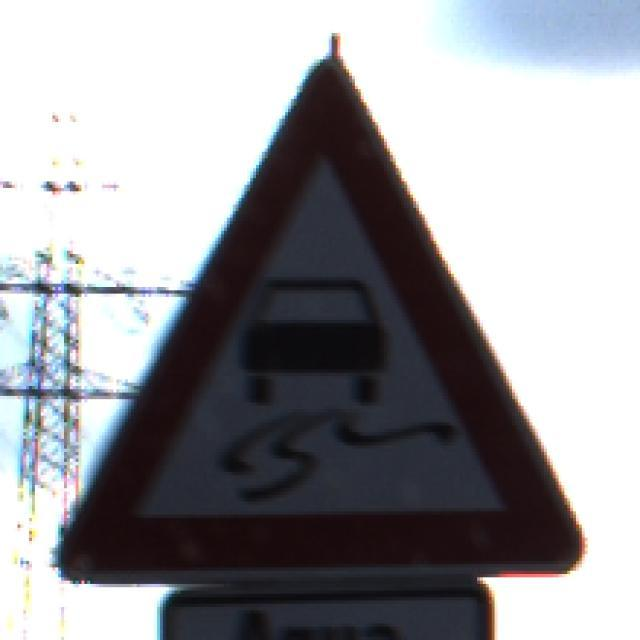slippery road: (54, 58, 585, 575)
